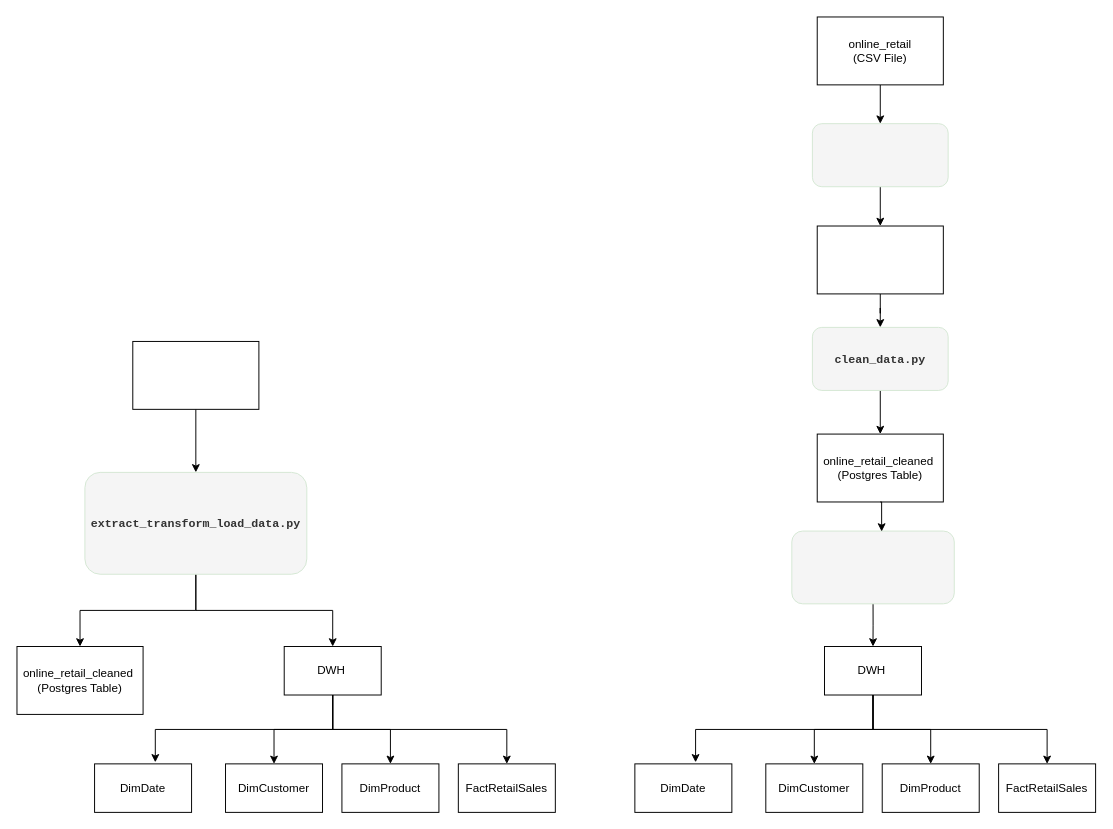
This 1113x829 diagram has some shape labels left out. Each missing label, with the centre of its shape:
"build_populate_dwh.py" belongs at point (872, 567).
"ingest_base_data.py" belongs at point (879, 155).
"online_retail (Postgres Table)" belongs at point (879, 259).
"online_retail_{n} (CSV GitHub Repo)" belongs at point (195, 374).
